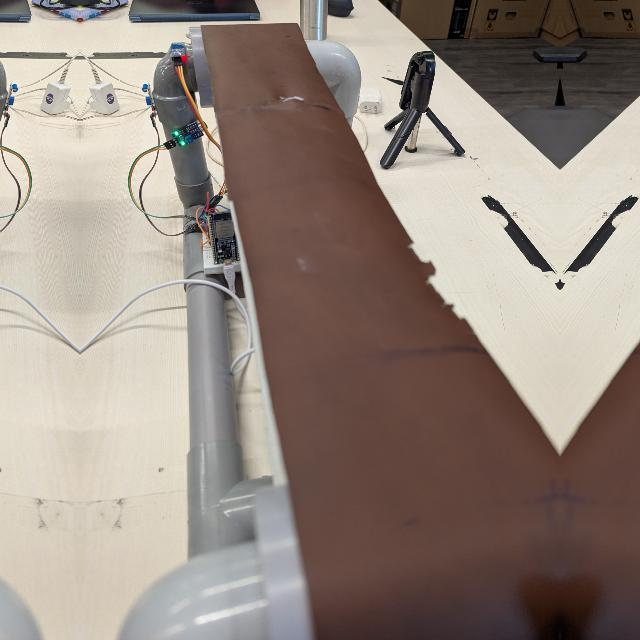edge_damage: (390, 226, 484, 335), (636, 226, 640, 335)
joint_damage: (269, 88, 309, 106)
